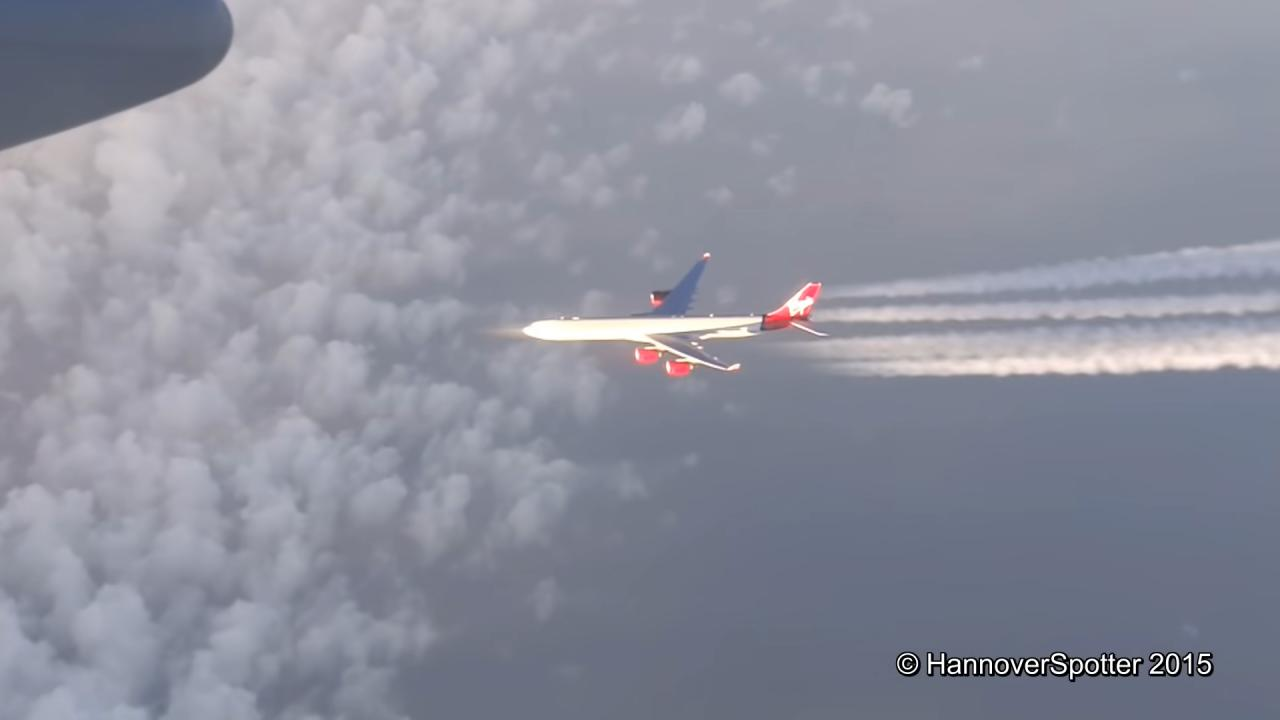Airplane: (514, 238, 836, 388)
